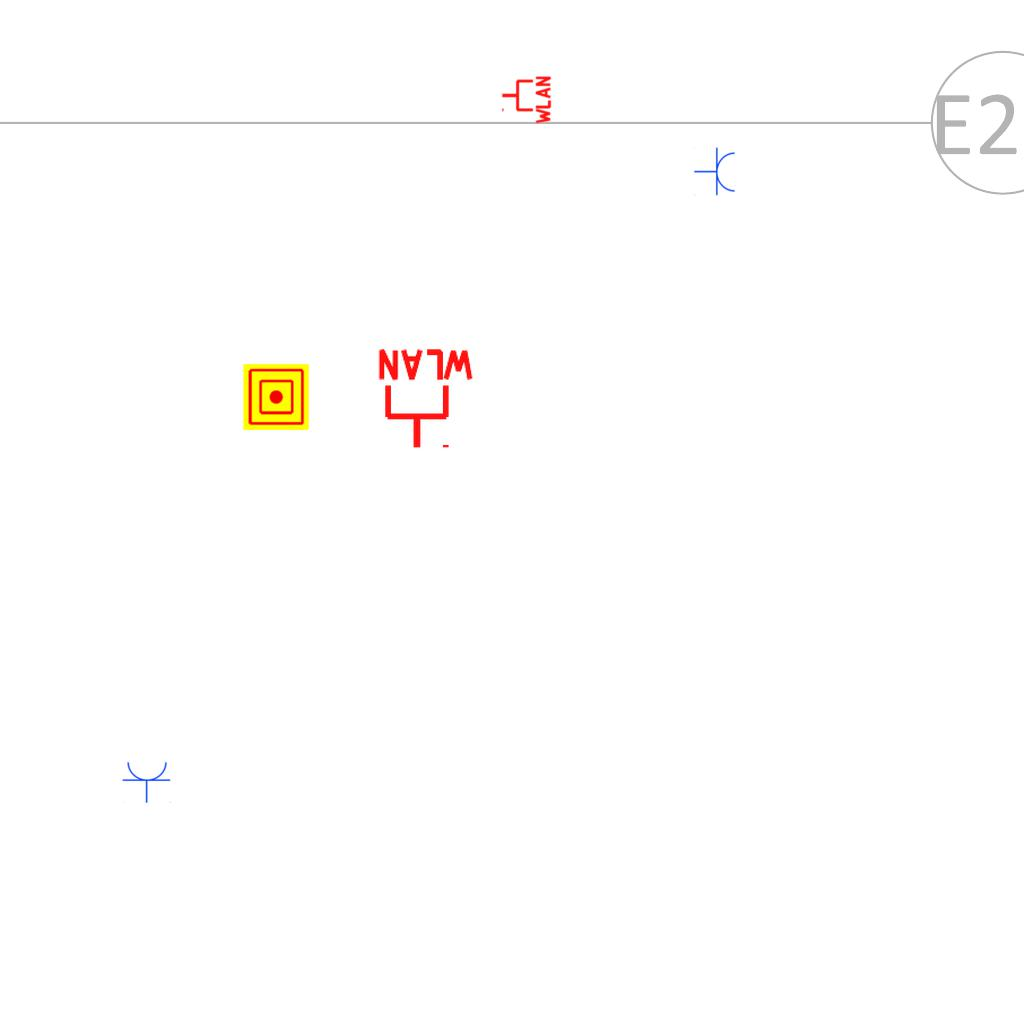NAM-Nichtautomatischer_Melder: (243, 364, 309, 430)
Schukosteckdose_einfach: (122, 760, 172, 803), (694, 147, 737, 197)
WLAN: (374, 347, 478, 452), (500, 74, 552, 126)
